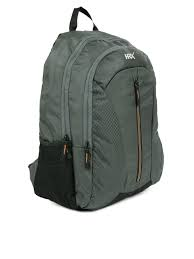backpack: (27, 6, 164, 211)
